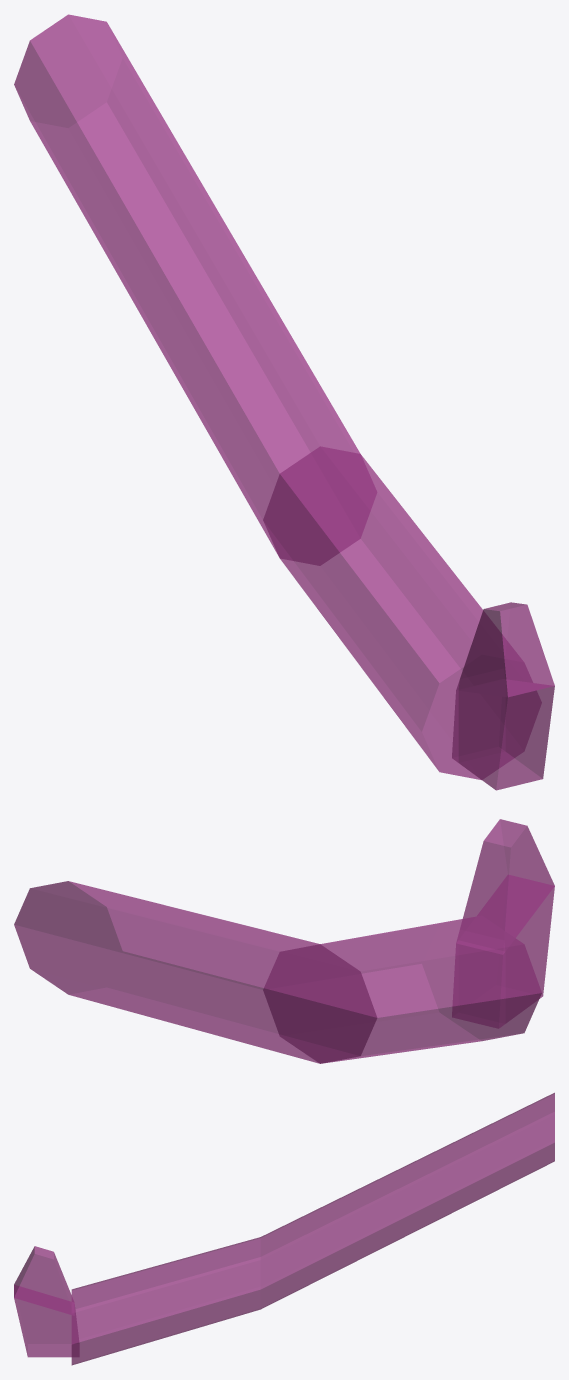
Rendered from SM_Bld_Roof_Edge_Trim_End_02_Collision_01.fbx.
The picture shows the model from 3 angles, top to bottom: view 1: azimuth 30°, elevation 25°; view 2: azimuth 150°, elevation 25°; view 3: azimuth 270°, elevation 25°; orthographic projection. The views are drawn at different scales.
Visible parts, largest first — view 1: SM_Bld_Roof_Edge_Trim_End_02_Collision_01; view 2: SM_Bld_Roof_Edge_Trim_End_02_Collision_01; view 3: SM_Bld_Roof_Edge_Trim_End_02_Collision_01.
Part boxes in pixels (x1,y1,x2,y2): SM_Bld_Roof_Edge_Trim_End_02_Collision_01: (14,14,554,790); SM_Bld_Roof_Edge_Trim_End_02_Collision_01: (14,819,554,1063); SM_Bld_Roof_Edge_Trim_End_02_Collision_01: (14,1092,554,1365).
Size of the model in its own units: 43.59 by 160 by 291.
